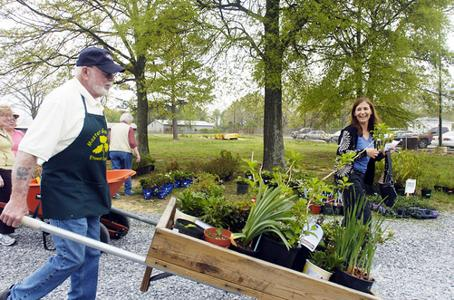person: (1, 48, 130, 300)
